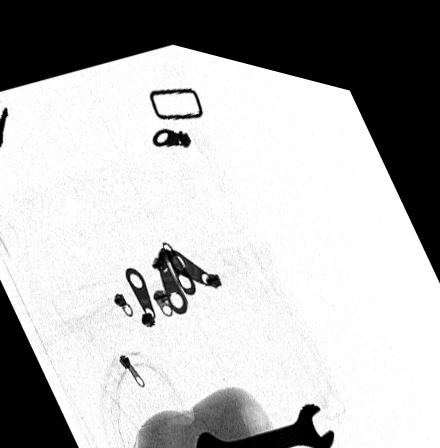Wrench: (194, 388, 335, 448)
